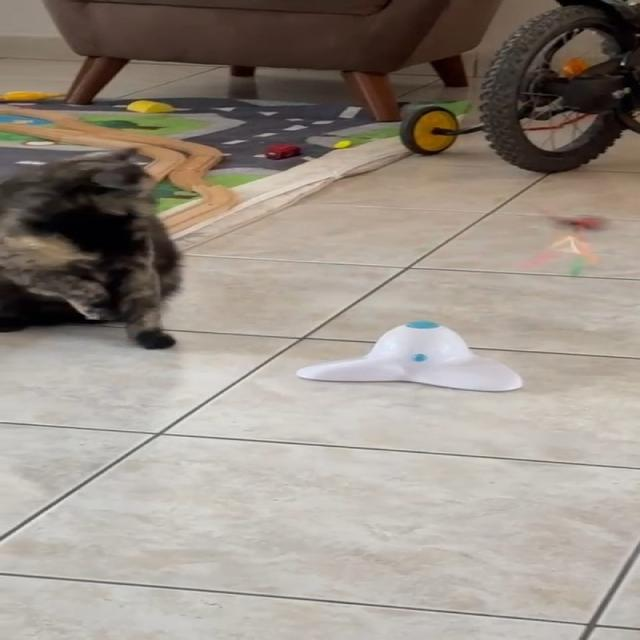authorized: (0, 145, 185, 349)
